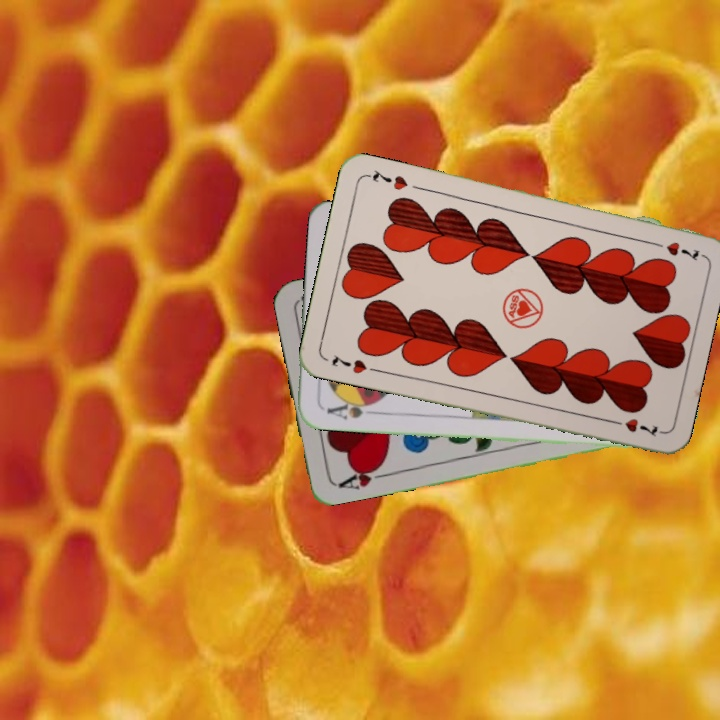H7: (646, 237, 704, 263), (327, 350, 381, 377)
HA: (334, 460, 391, 492)
SA: (322, 395, 379, 422)
